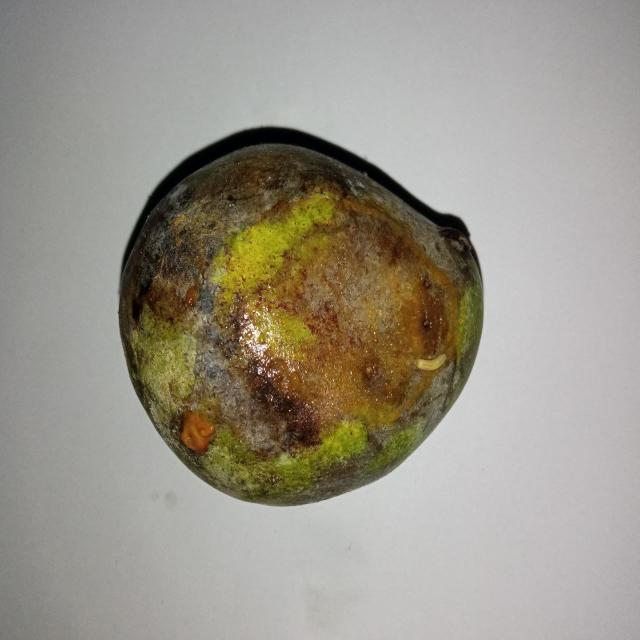rotten_mango: (119, 143, 486, 507)
